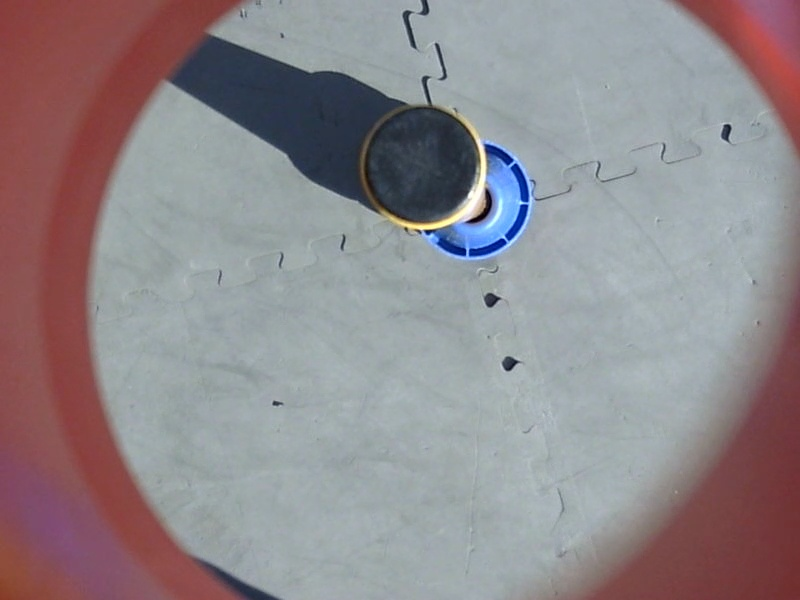tip: (352, 99, 493, 234)
